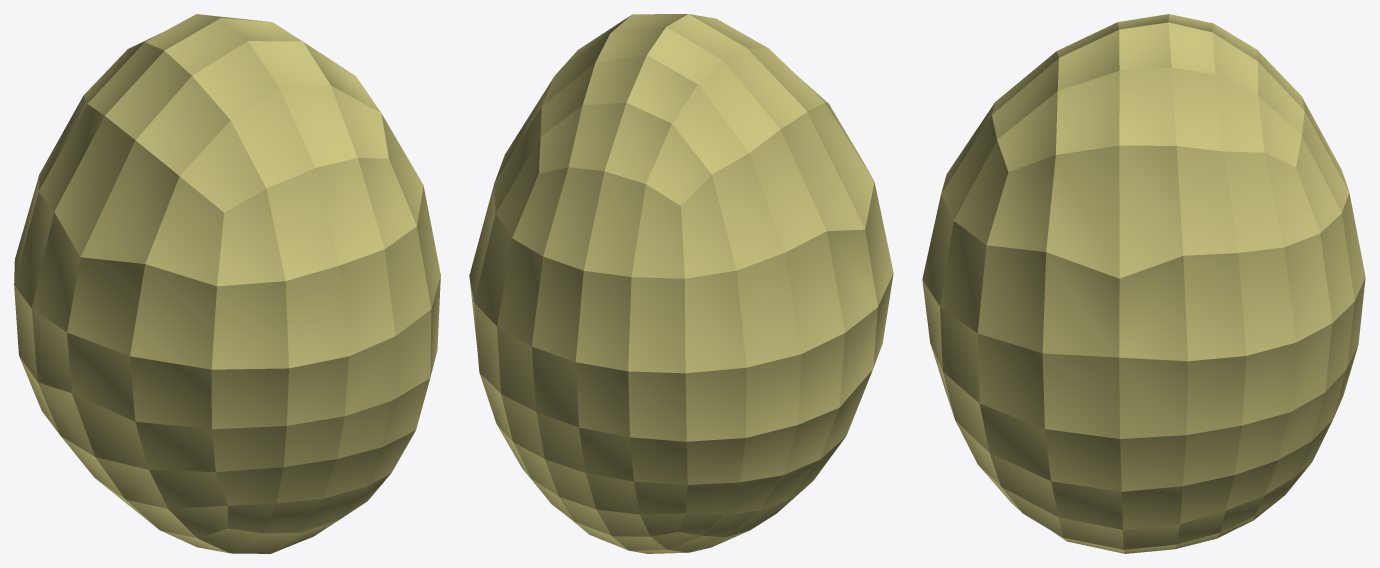
Rendered from MeshPotatoC4_0.obj.
3 views of the same model, side by side, from view 1: azimuth 30°, elevation 25°; view 2: azimuth 150°, elevation 25°; view 3: azimuth 270°, elevation 25° (orthographic).
Parts seen in each view (by area): view 1: PotatoC4; view 2: PotatoC4; view 3: PotatoC4.
Boxes of the visible parts, left/top/right/bottom form: PotatoC4: left=14, top=14, right=440, bottom=553; PotatoC4: left=469, top=14, right=893, bottom=553; PotatoC4: left=922, top=14, right=1365, bottom=553.
Bounding box in the file's own units: 0.0868 × 0.12 × 0.0927.
